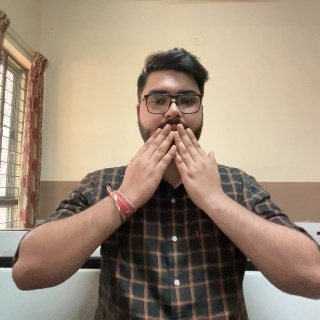Thank You: (121, 123, 226, 201)
